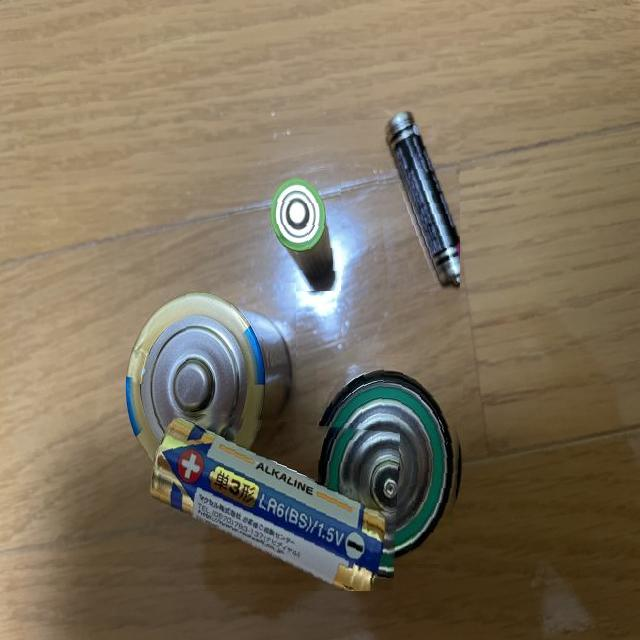battery: (148, 409, 400, 592), (118, 283, 296, 474), (318, 353, 466, 564), (372, 106, 460, 292), (254, 167, 341, 291)
